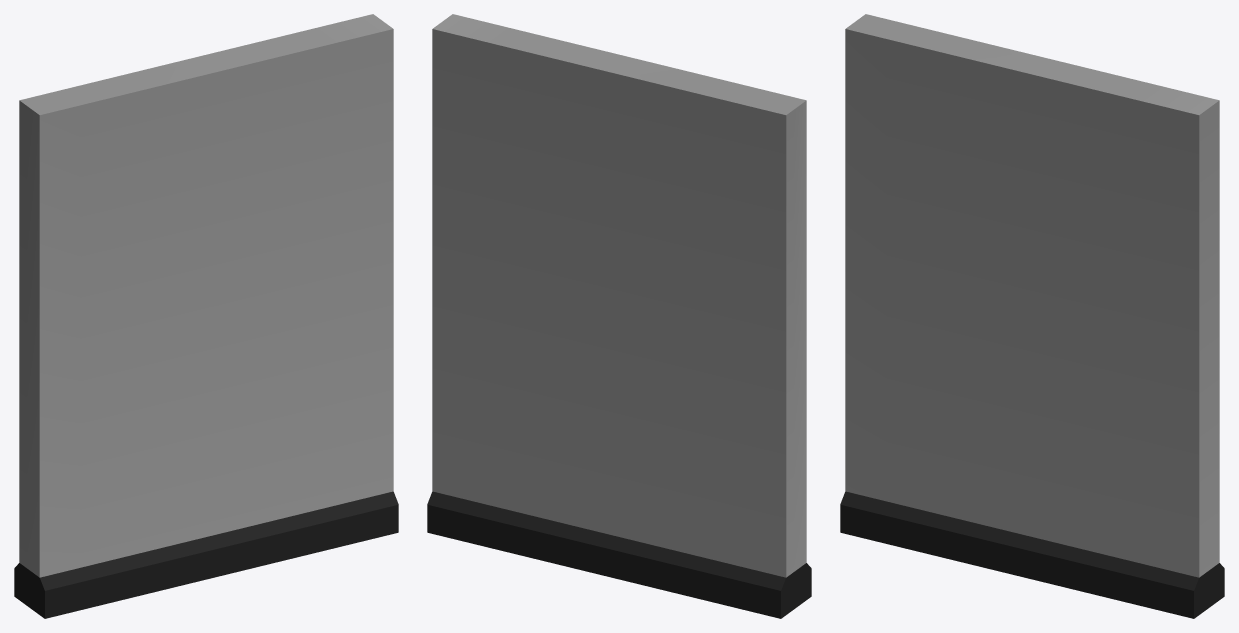
Rendered from Wall.glb.
The picture shows the model from 3 angles, left to right: view 1: azimuth 30°, elevation 25°; view 2: azimuth 150°, elevation 25°; view 3: azimuth 330°, elevation 25°; orthographic projection.
Parts seen in each view (by area): view 1: Wall; view 2: Wall; view 3: Wall.
Boxes of the visible parts, x1,y1,x2,y2 form: Wall: [14, 14, 398, 618]; Wall: [427, 14, 811, 618]; Wall: [840, 14, 1224, 618].
Size of the model in its own units: 2 by 2.7 by 0.3008.
1 material, 1 textured.
